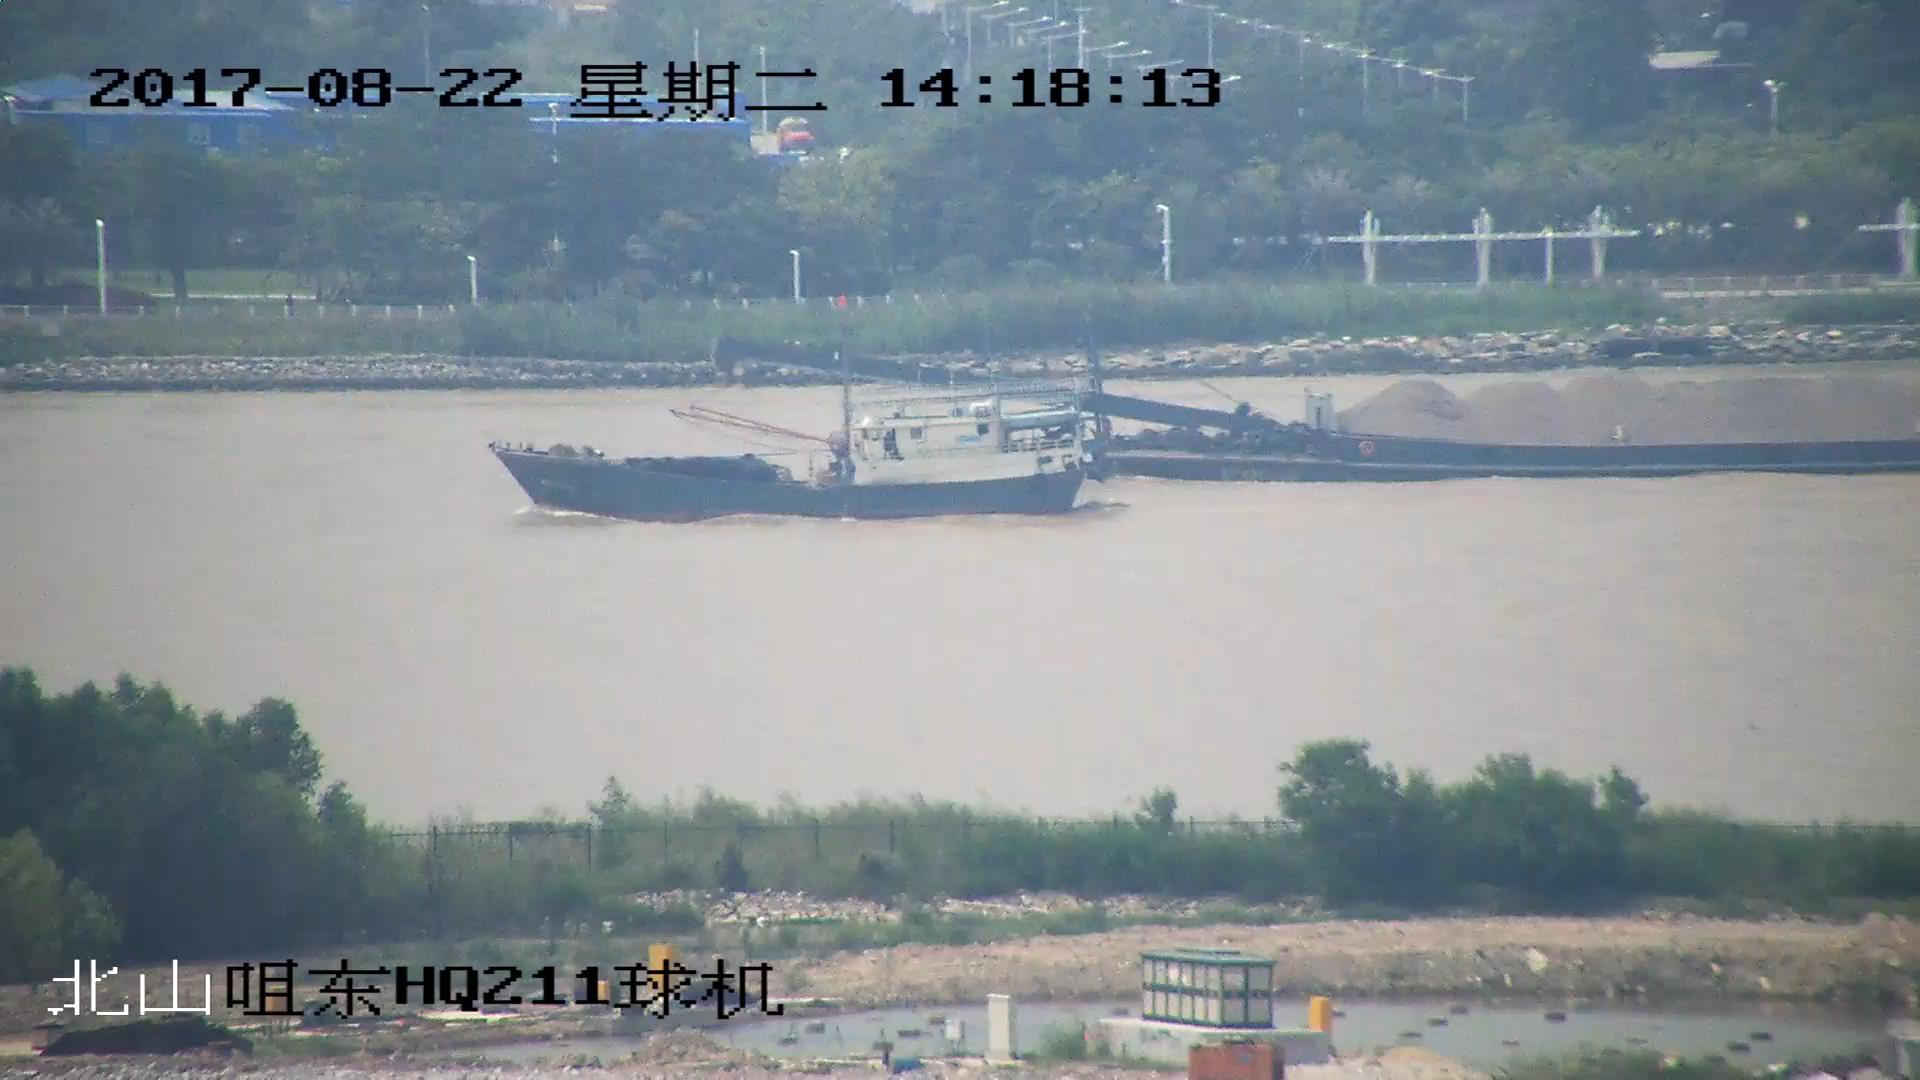Ship: (715, 336, 1920, 484), (487, 295, 1112, 513)
